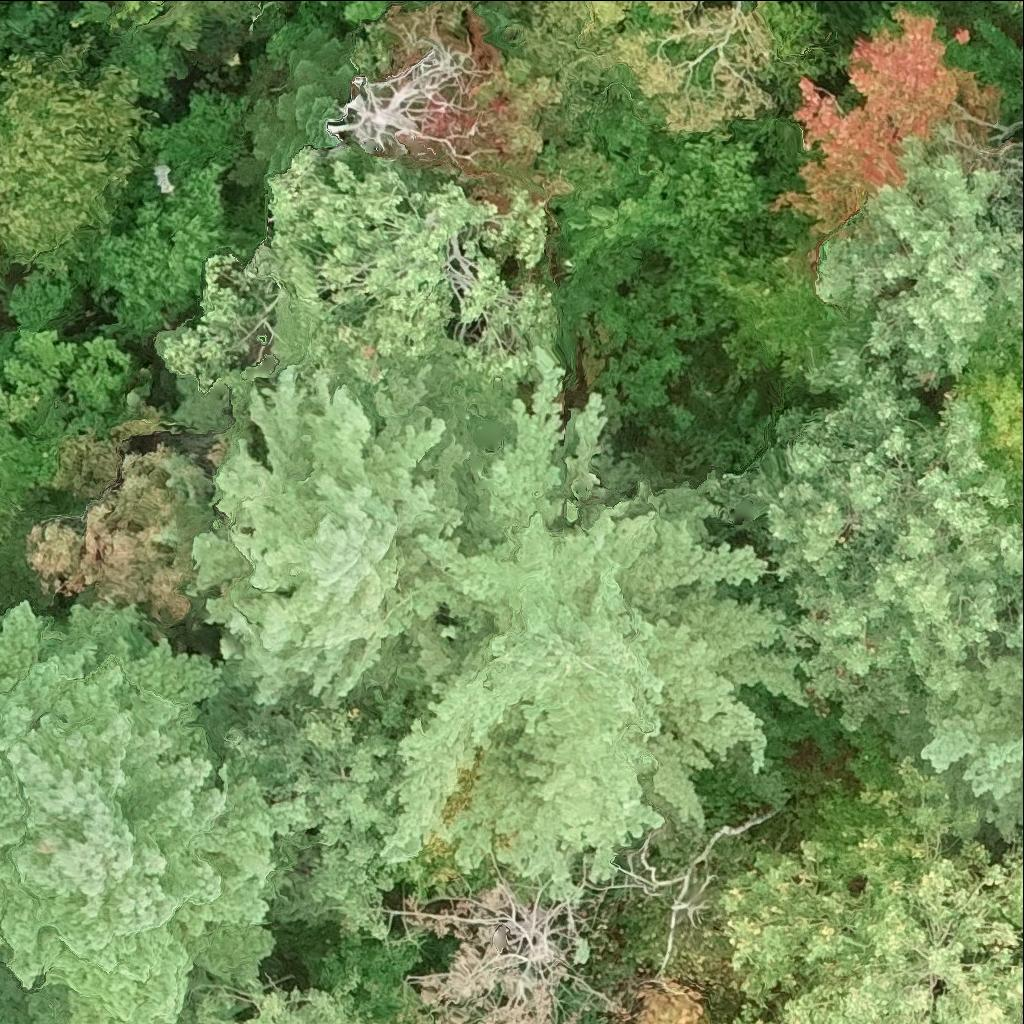crown: (330, 348, 812, 884), (195, 302, 519, 704), (0, 604, 309, 1023), (691, 344, 1023, 732), (147, 140, 563, 421), (188, 611, 490, 942), (720, 757, 1023, 1023), (13, 93, 262, 344), (775, 7, 1003, 263), (815, 137, 1023, 386), (25, 433, 224, 632), (387, 0, 577, 203), (0, 36, 153, 275), (0, 331, 135, 538), (404, 880, 592, 1023), (919, 614, 1023, 841), (714, 243, 875, 384), (243, 31, 357, 185), (957, 292, 1023, 520), (161, 965, 369, 1023), (282, 0, 391, 19), (104, 0, 177, 18), (0, 52, 16, 82), (500, 0, 519, 3)
